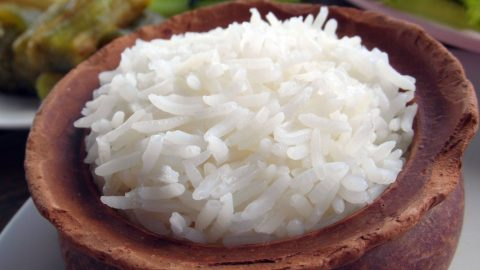rice: (105, 30, 415, 232)
